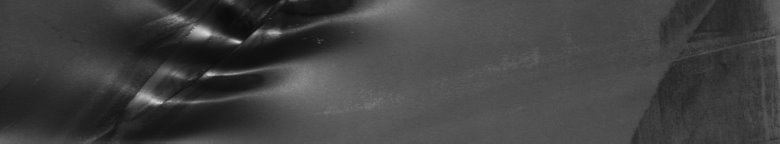ke: (100, 4, 376, 136)
